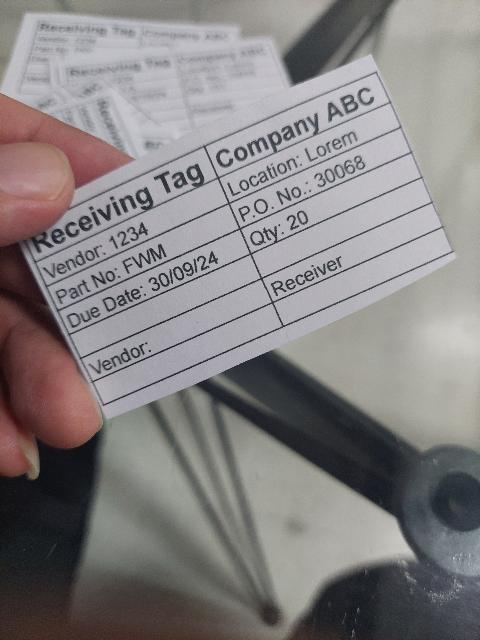PO no: (230, 127, 410, 228)
part no: (47, 204, 240, 312)
qty: (240, 151, 422, 254)
tags: (20, 56, 454, 418)
